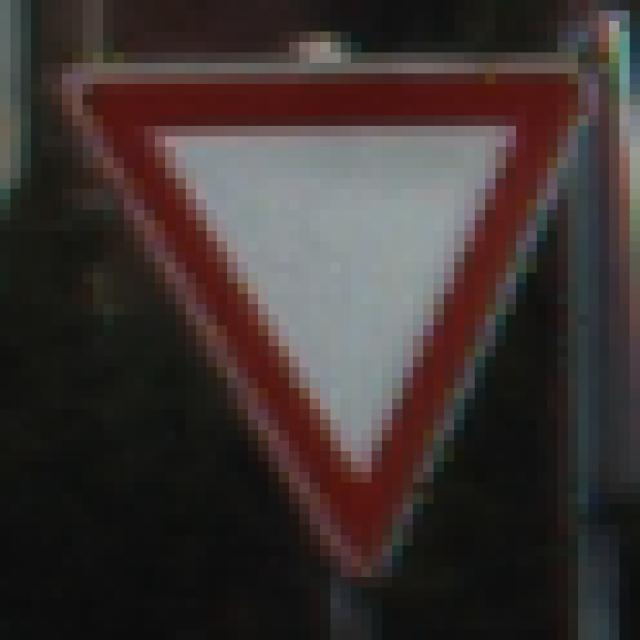Give Way: (53, 64, 579, 578)
